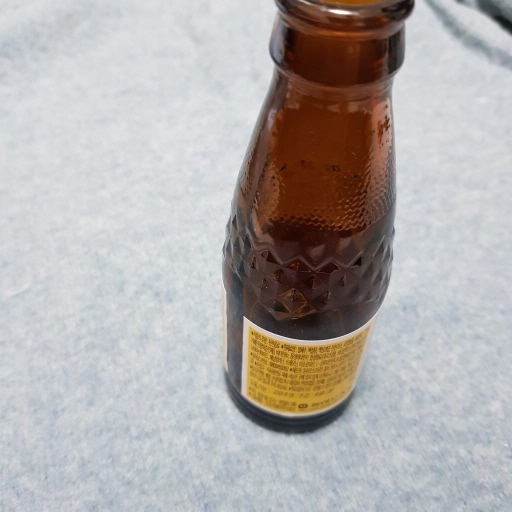Glass_3: (218, 1, 413, 436)
